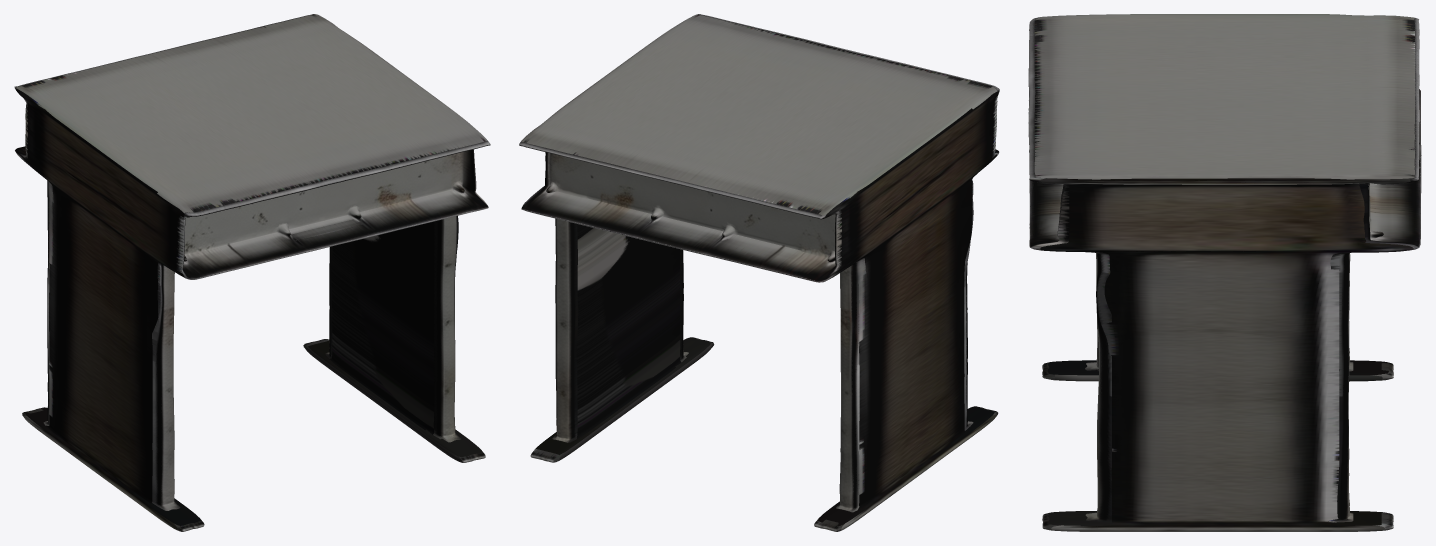
Rendered from door-garage-frame.glb.
The picture shows the model from 3 angles, left to right: view 1: azimuth 30°, elevation 25°; view 2: azimuth 150°, elevation 25°; view 3: azimuth 270°, elevation 25°; orthographic projection. The views are drawn at different scales.
Parts seen in each view (by area): view 1: tmpdau45f8q.ply; view 2: tmpdau45f8q.ply; view 3: tmpdau45f8q.ply.
Part boxes in pixels (x1=…): tmpdau45f8q.ply: x1=14, y1=14, x2=490, y2=531; tmpdau45f8q.ply: x1=519, y1=14, x2=999, y2=531; tmpdau45f8q.ply: x1=1028, y1=14, x2=1421, y2=531.
Bounding box in the file's own units: 1 × 1 × 1.
Materials: 1 (1 with a texture image).
